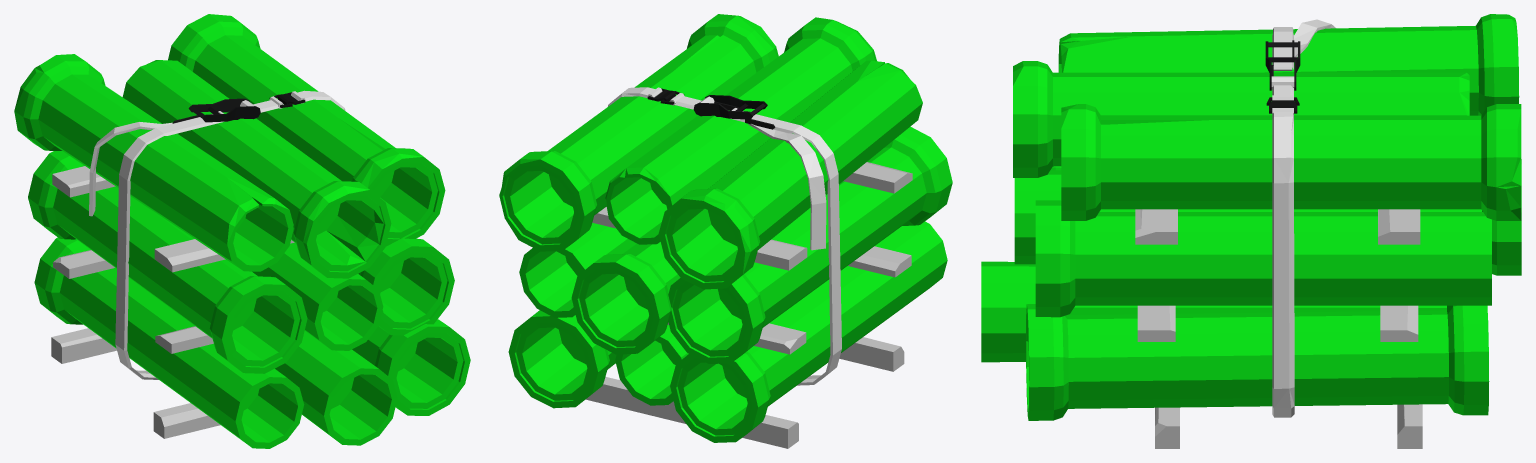
The model's file is Construction_Pipe02.fbx.
3 views of the same model, side by side, from view 1: azimuth 30°, elevation 25°; view 2: azimuth 150°, elevation 25°; view 3: azimuth 270°, elevation 25° (orthographic). The views are drawn at different scales.
Parts seen in each view (by area): view 1: SM_City_Construction_Pipe_02b.mo; view 2: SM_City_Construction_Pipe_02b.mo; view 3: SM_City_Construction_Pipe_02b.mo.
Part boxes in pixels (x1,y1,x2,y2): SM_City_Construction_Pipe_02b.mo: (14,14,470,448); SM_City_Construction_Pipe_02b.mo: (499,14,952,448); SM_City_Construction_Pipe_02b.mo: (981,14,1521,448).
Size of the model in its own units: 148 by 149 by 230.
